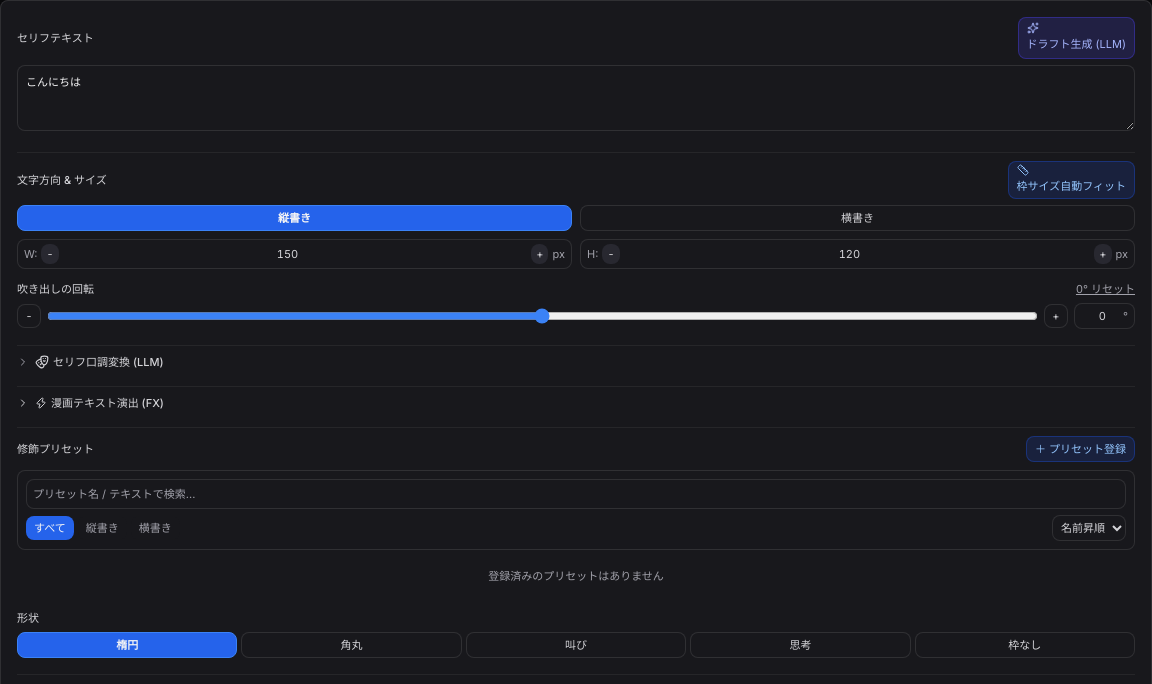
Test: SpeechBubbleControls › renders tone presets and custom prompt input when tone section is opened
The image size is (1152, 684).
// Toggle tone section open
Click the button "セリフ口調変換 (LLM)". click: click(90, 362)
box: [17, 355, 164, 369]
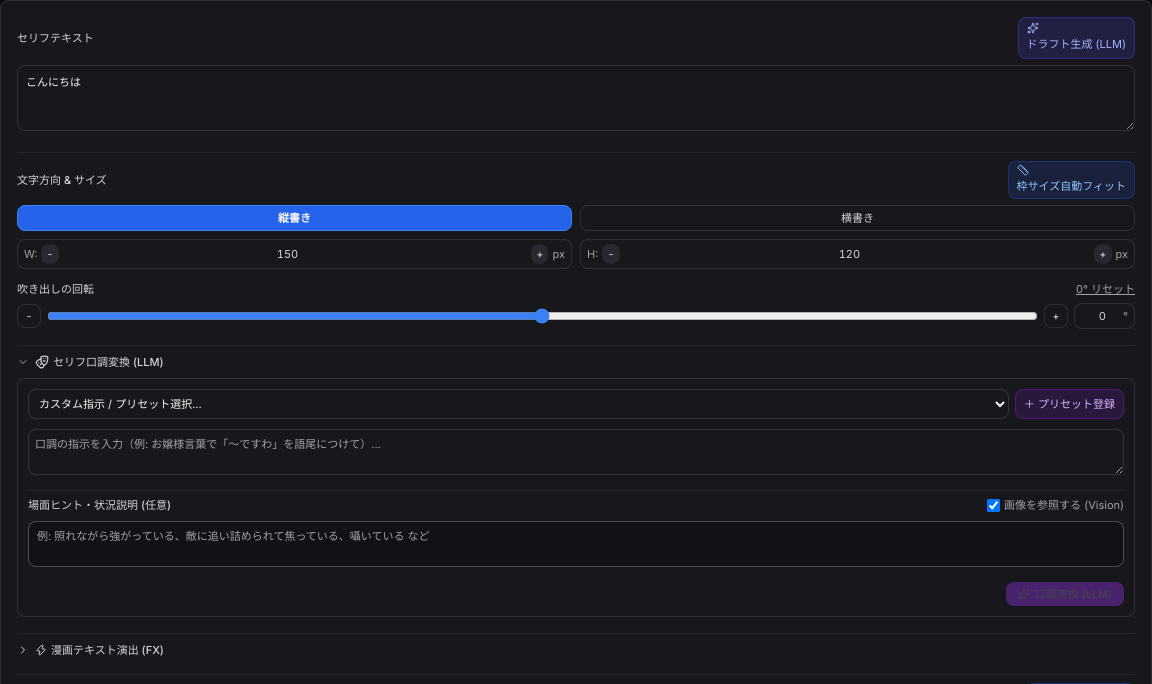
Expected: the dropdown named "口調プリセット選択" is shown, [28, 389, 1009, 419]
Expected: the text box with placeholder "口調の指示を入力（例: お嬢様言葉で「〜ですわ」を語尾につけて）..." is shown, [28, 429, 1124, 475]
Expected: the button "口調変換 (LLM)" is shown, [1006, 582, 1124, 606]
